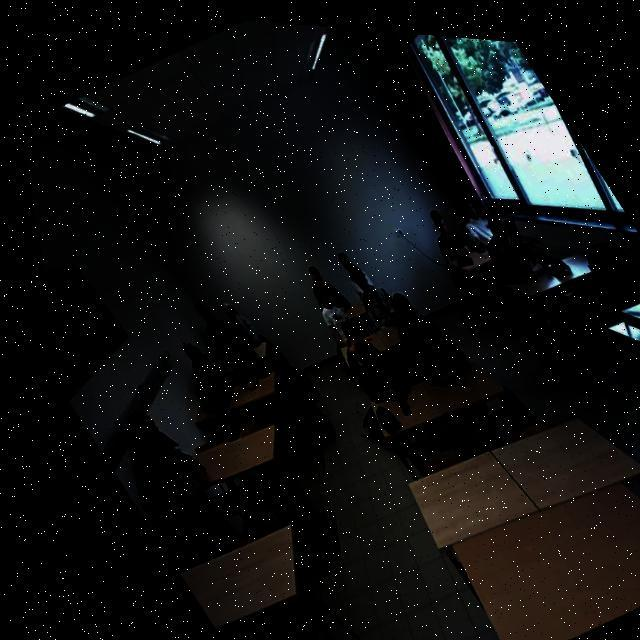phone_use: (354, 282, 469, 412), (464, 216, 559, 294), (182, 301, 234, 366), (429, 209, 468, 266)
